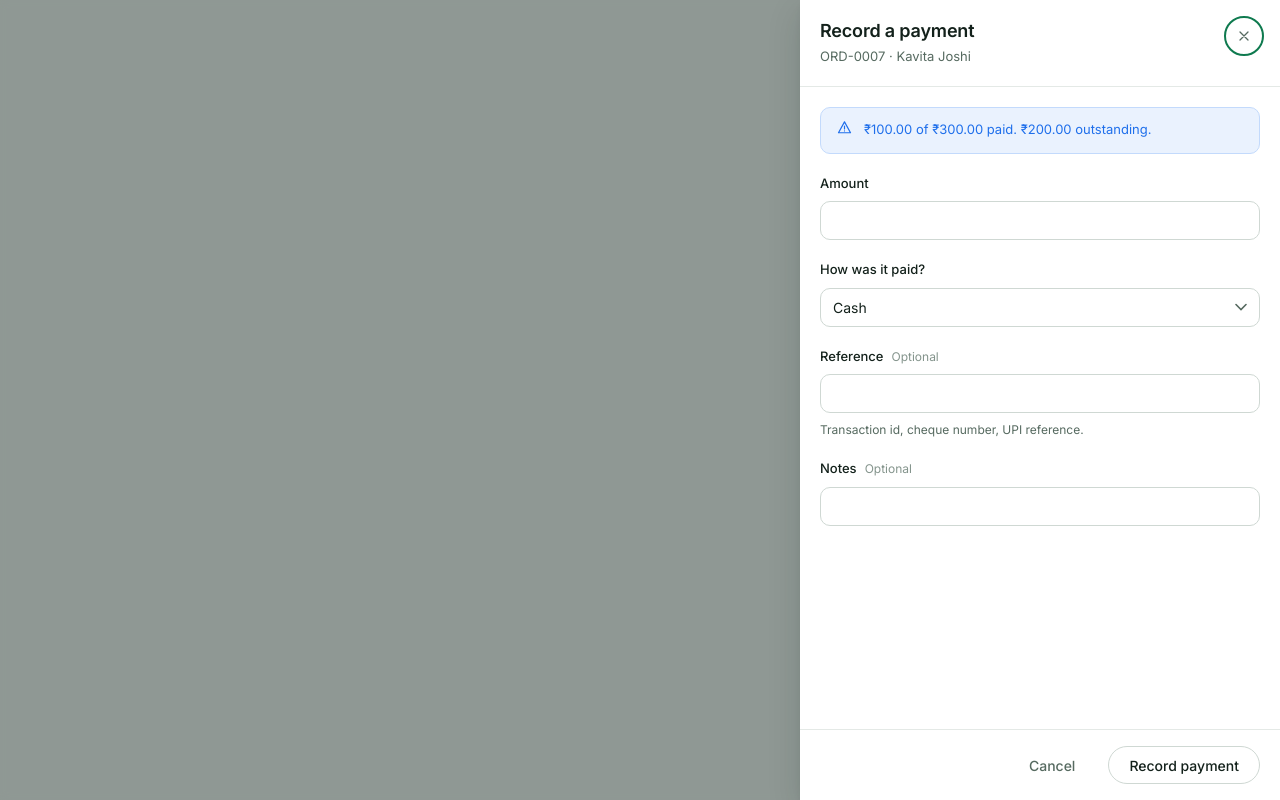
OrderPaymentDrawer › surfaces the server refusal rather than claiming success
The width and height of the screenshot is (1280, 800).
Type "50" into the field labelled "Amount" at (1040, 220), box [820,201,1260,240]
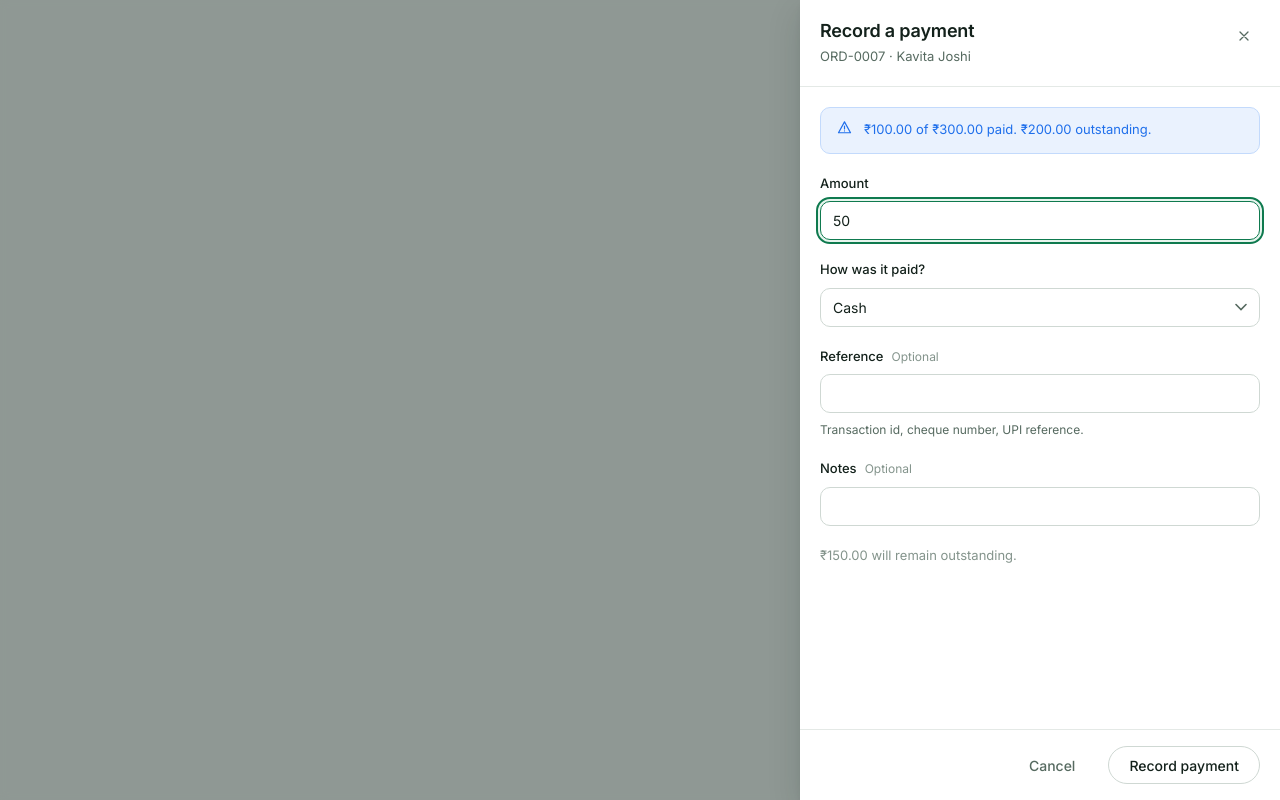
Click the button "Record payment" at (1184, 765), box [1108,746,1260,784]
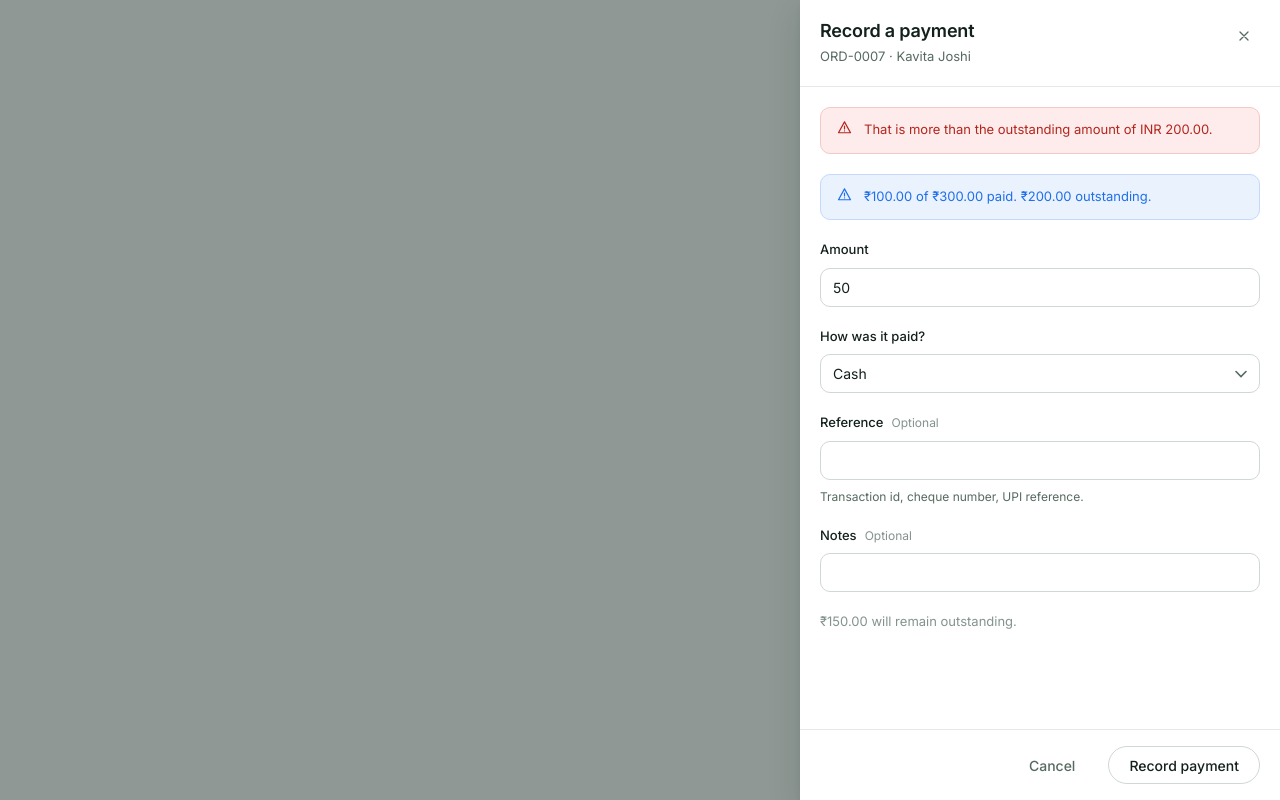
expect the text "That is more than the outstanding amount of INR 200.00." is shown: met, box [864,120,1213,140]
